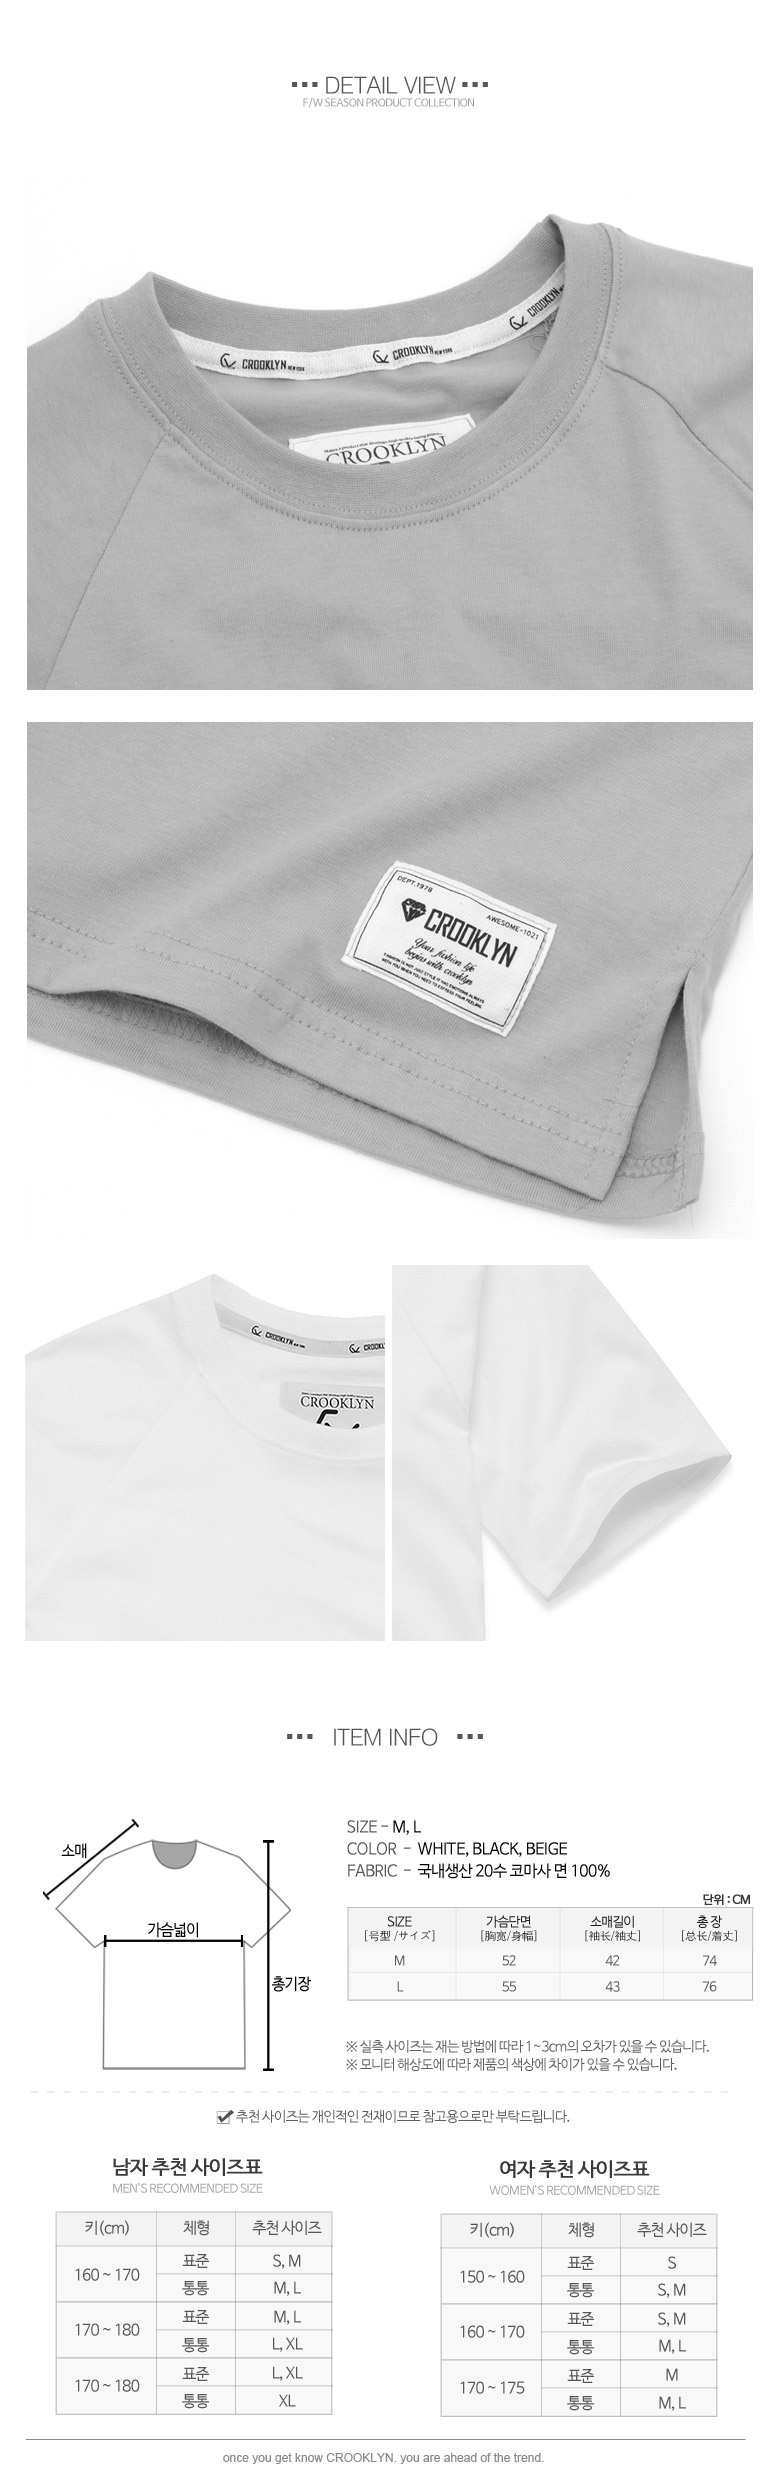table: (346, 1907, 755, 2002)
